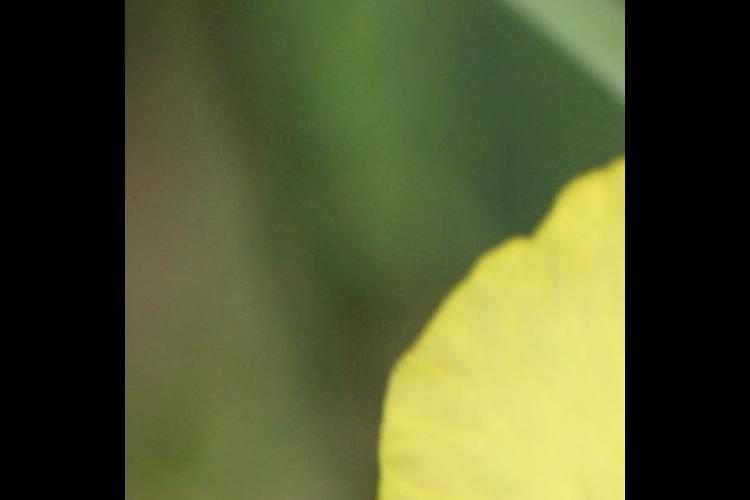yellow: (361, 128, 623, 500)
